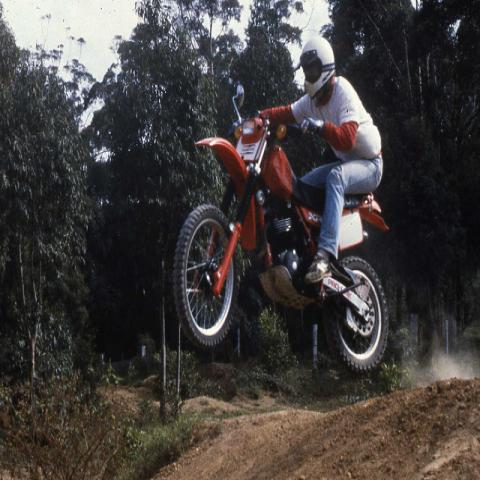motorcycle: (174, 84, 389, 377)
